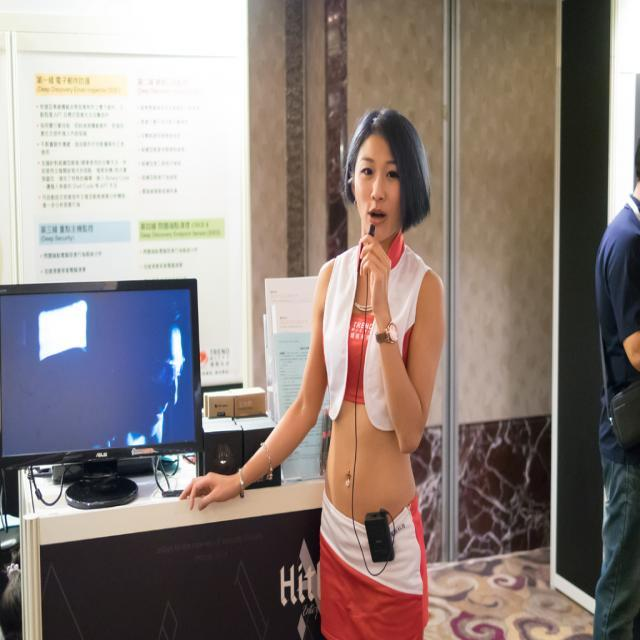others: (1, 270, 238, 526)
